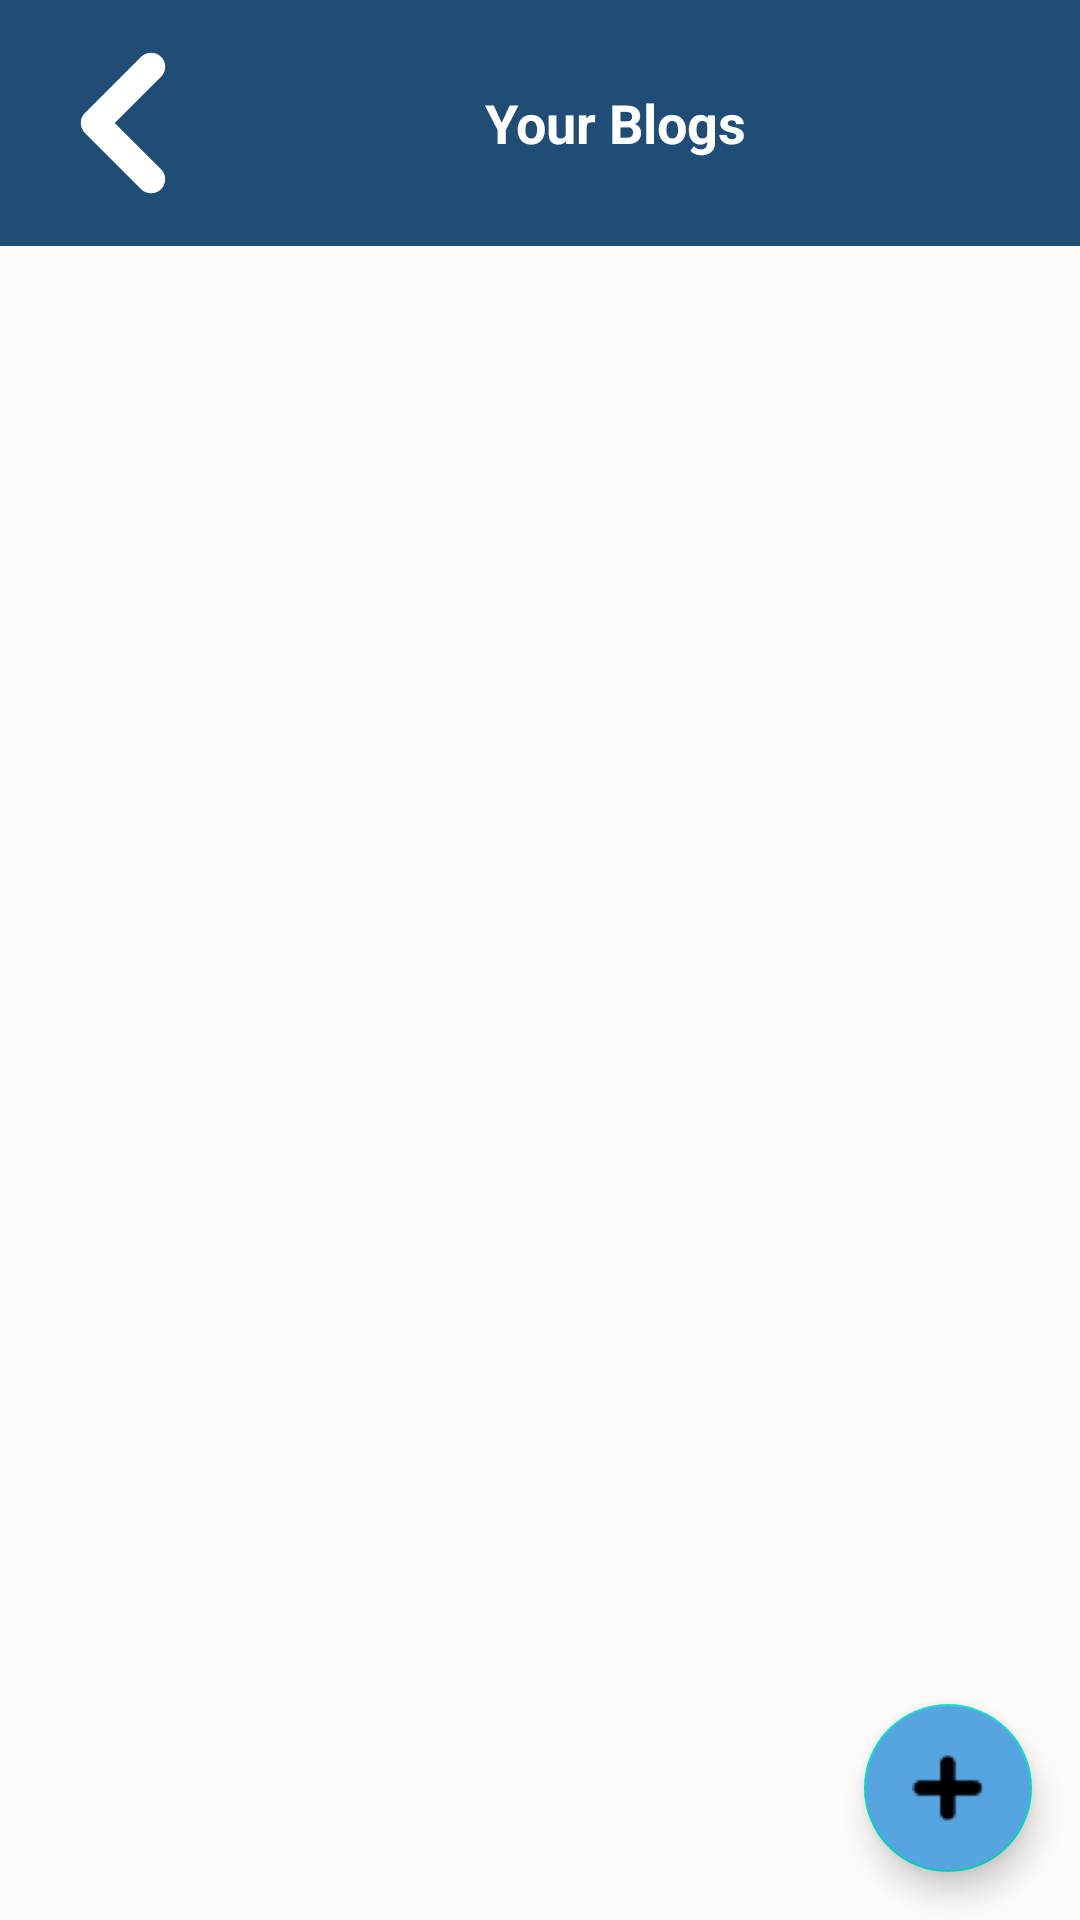

Locate icon controls on the screen. Image size 1080*1920, boxes as (x1, y1, x2, y2).
add: (864, 1704, 1032, 1872)
Back: (80, 52, 166, 194)
